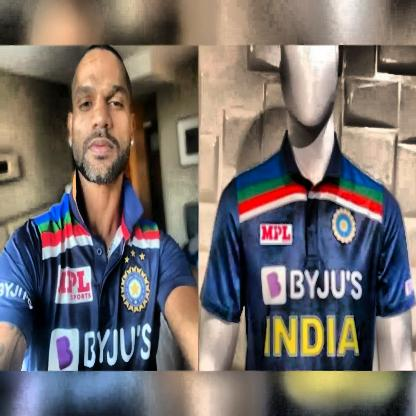BCCI: (122, 267, 151, 314), (334, 207, 355, 243)
Byjus: (290, 268, 362, 300), (264, 270, 287, 303)
MPL: (261, 225, 292, 245)
